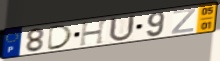8: (25, 27, 46, 53)
9: (145, 11, 168, 38)
D: (46, 24, 75, 52)
H: (78, 17, 110, 47)
U: (107, 14, 137, 43)
Z: (170, 7, 198, 35)
